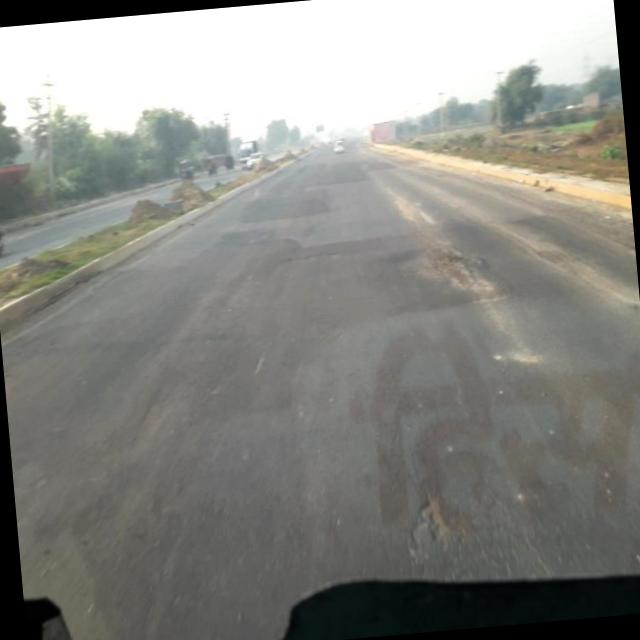crack: (391, 466, 554, 584)
pothole: (416, 238, 491, 306), (412, 477, 452, 542)
